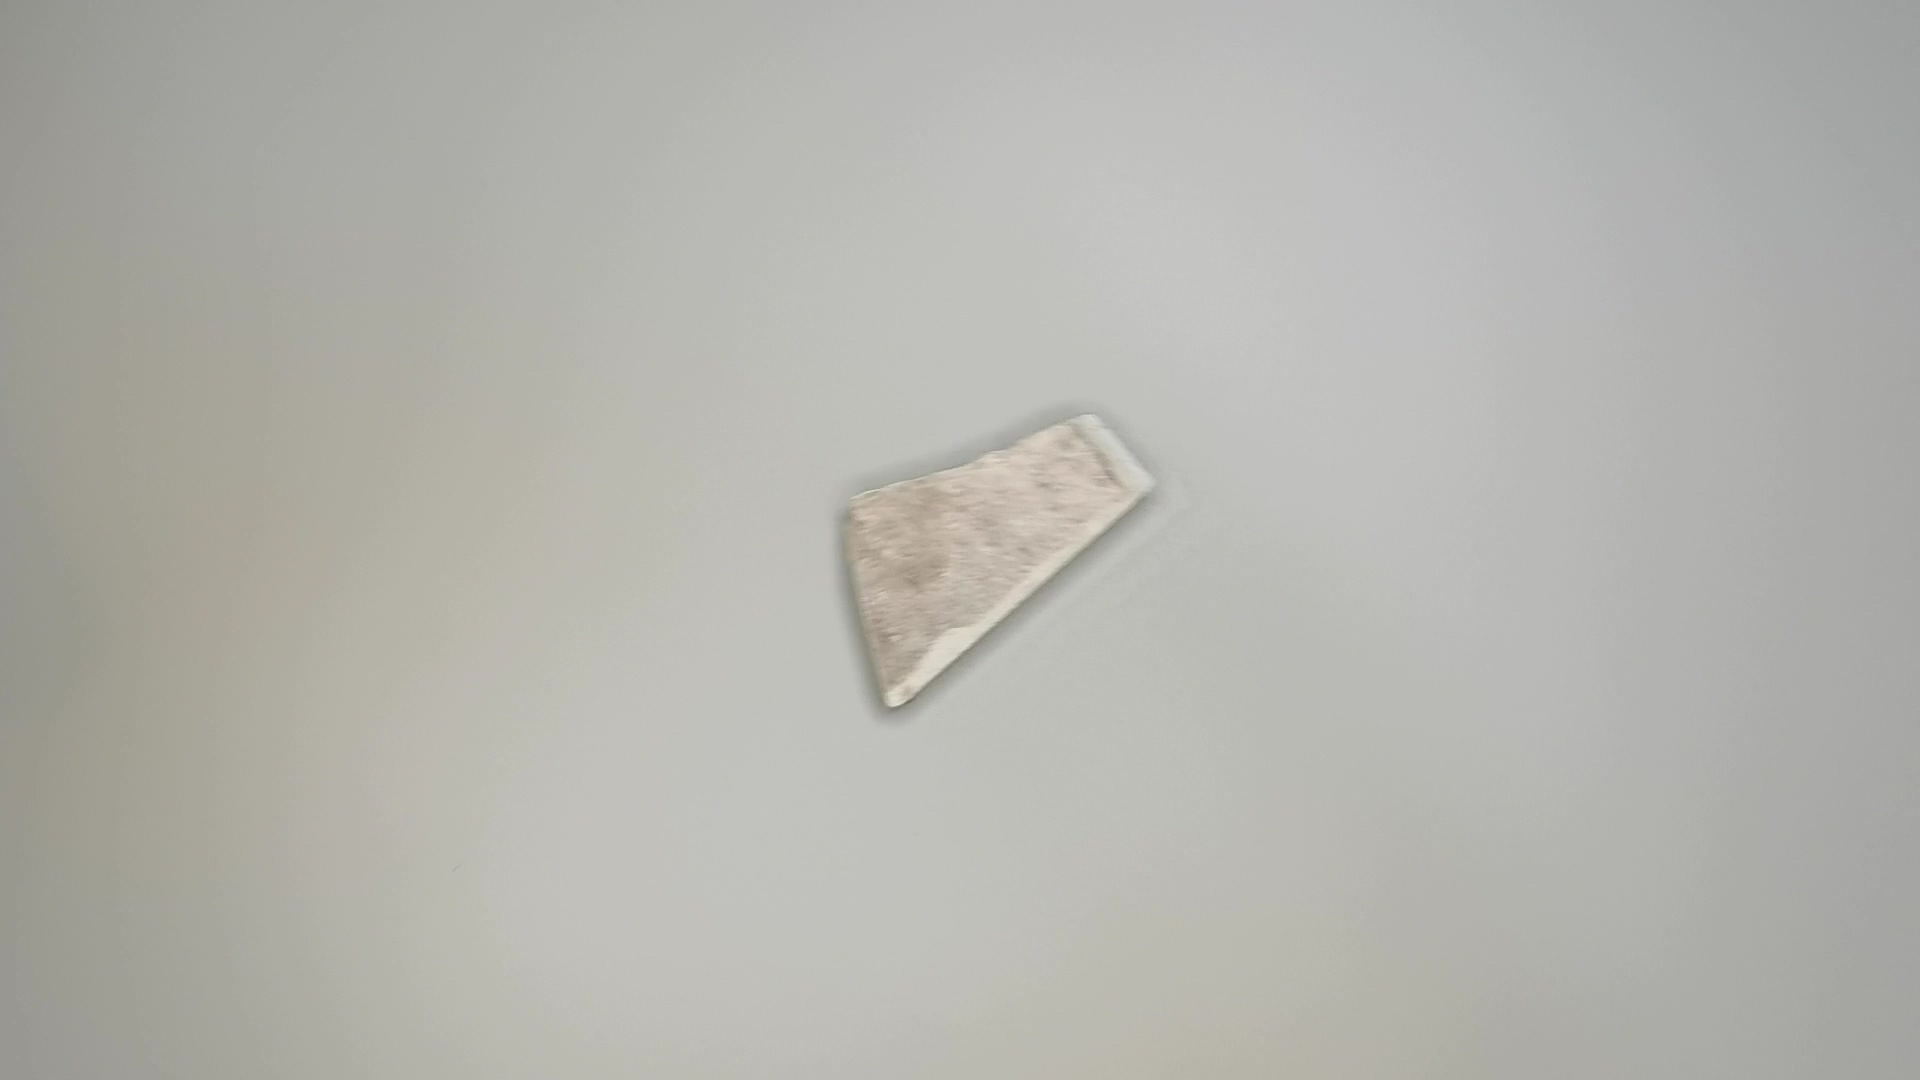ceramic: (825, 405, 1166, 711)
